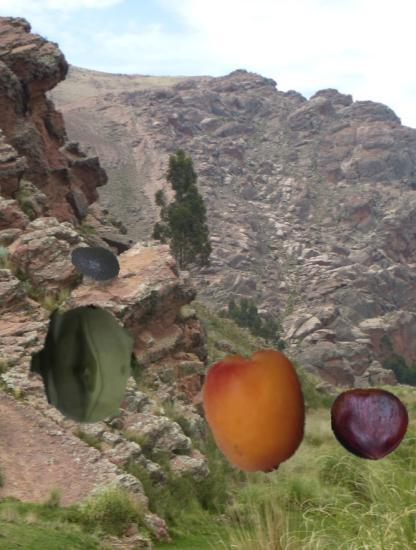Apricot: (195, 348, 321, 474)
Avocado: (70, 237, 121, 288)
Chestnut: (331, 385, 410, 464)
Kohlrabi: (26, 302, 149, 425)
